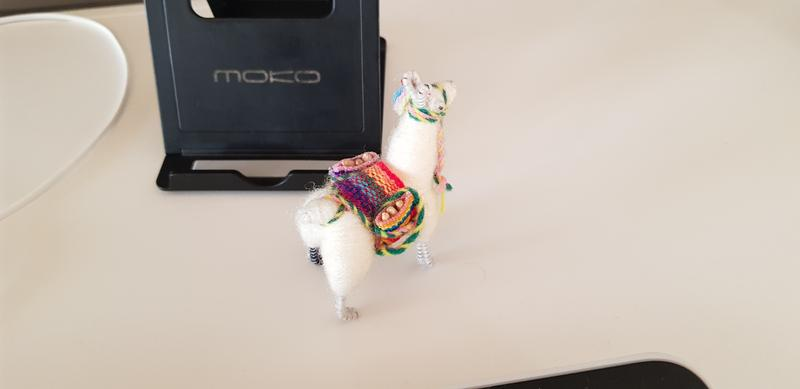Horse-Toy: (264, 61, 476, 340)
